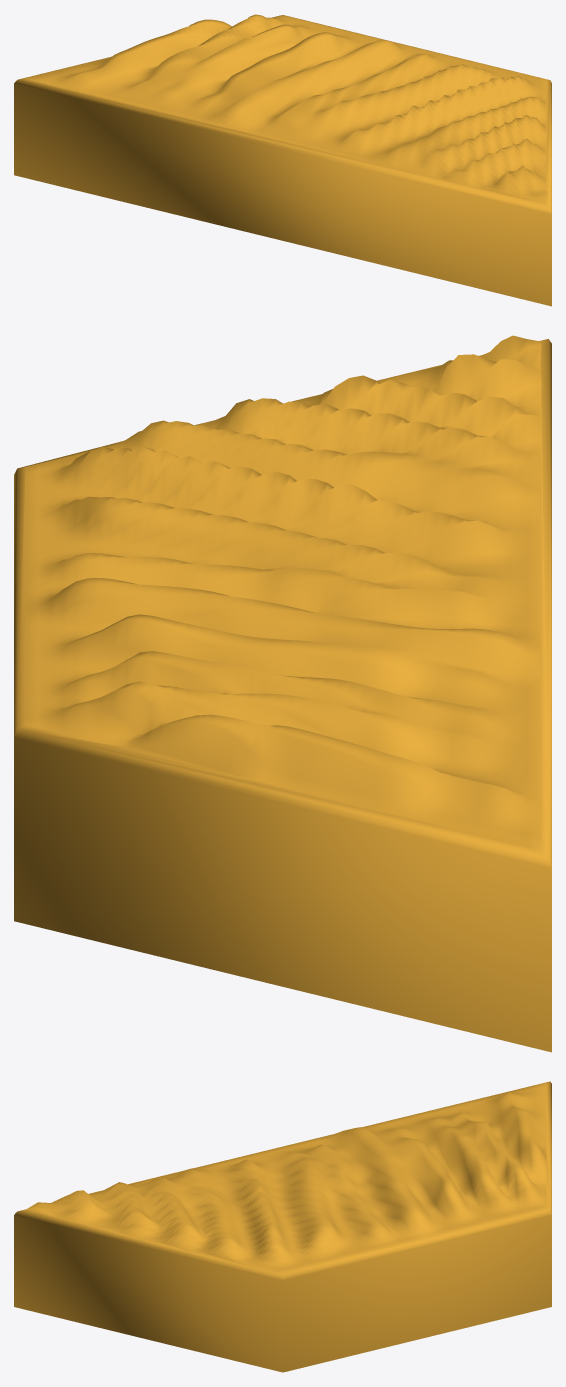
The model's file is desert_half.glb.
The picture shows the model from 3 angles, top to bottom: view 1: azimuth 30°, elevation 25°; view 2: azimuth 150°, elevation 25°; view 3: azimuth 270°, elevation 25°; orthographic projection. The views are drawn at different scales.
Visible parts, largest first — view 1: Sand_Half; view 2: Sand_Half; view 3: Sand_Half.
Part boxes in pixels (left/top/right/bottom): Sand_Half: left=14, top=14, right=551, bottom=306; Sand_Half: left=14, top=335, right=551, bottom=1052; Sand_Half: left=14, top=1081, right=551, bottom=1372.
Bounding box in the file's own units: 0.87 × 0.2424 × 1.
